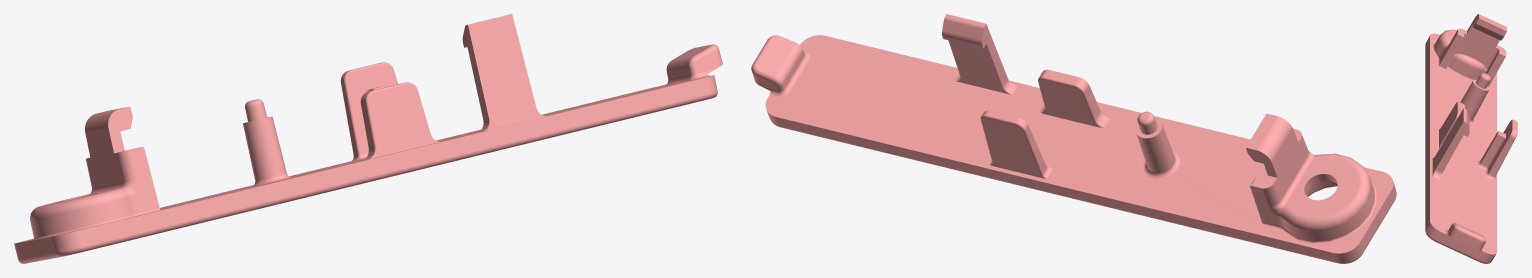
3 renders of one model, left to right at view 1: azimuth 30°, elevation 25°; view 2: azimuth 150°, elevation 25°; view 3: azimuth 270°, elevation 25°, orthographic. The views are drawn at different scales.
Visible parts, largest first — view 1: 门体-66_Default; view 2: 门体-66_Default; view 3: 门体-66_Default.
Boxes of the visible parts, x1,y1,x2,y2 form: 门体-66_Default: [14, 14, 722, 263]; 门体-66_Default: [751, 14, 1396, 263]; 门体-66_Default: [1425, 14, 1517, 263].
Bounding box in the file's own units: 0.0717 × 0.0151 × 0.0138.
